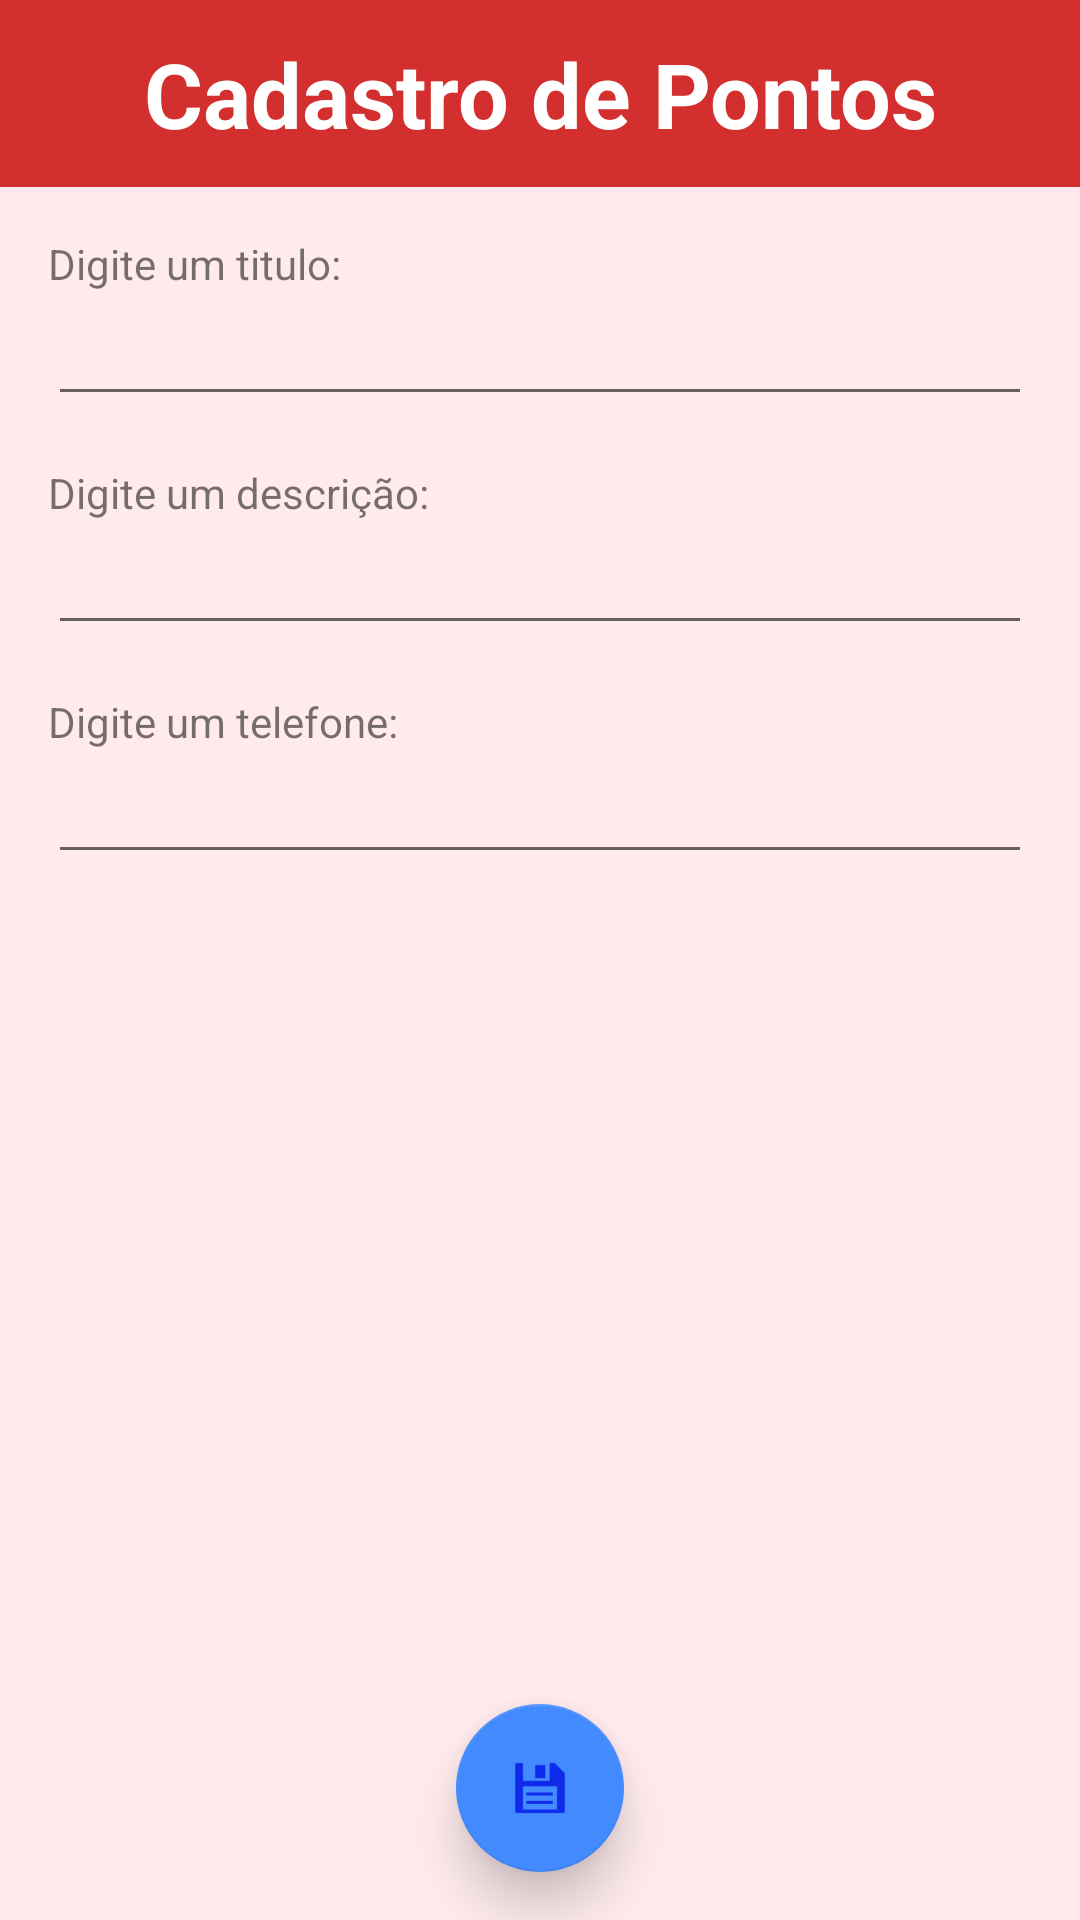

Locate icon controls on the screen. Image size 1080*1920, boxes as {"left": x1, "top": y1, "right": x2, "bottom": y2}.
save: {"left": 456, "top": 1704, "right": 624, "bottom": 1872}
